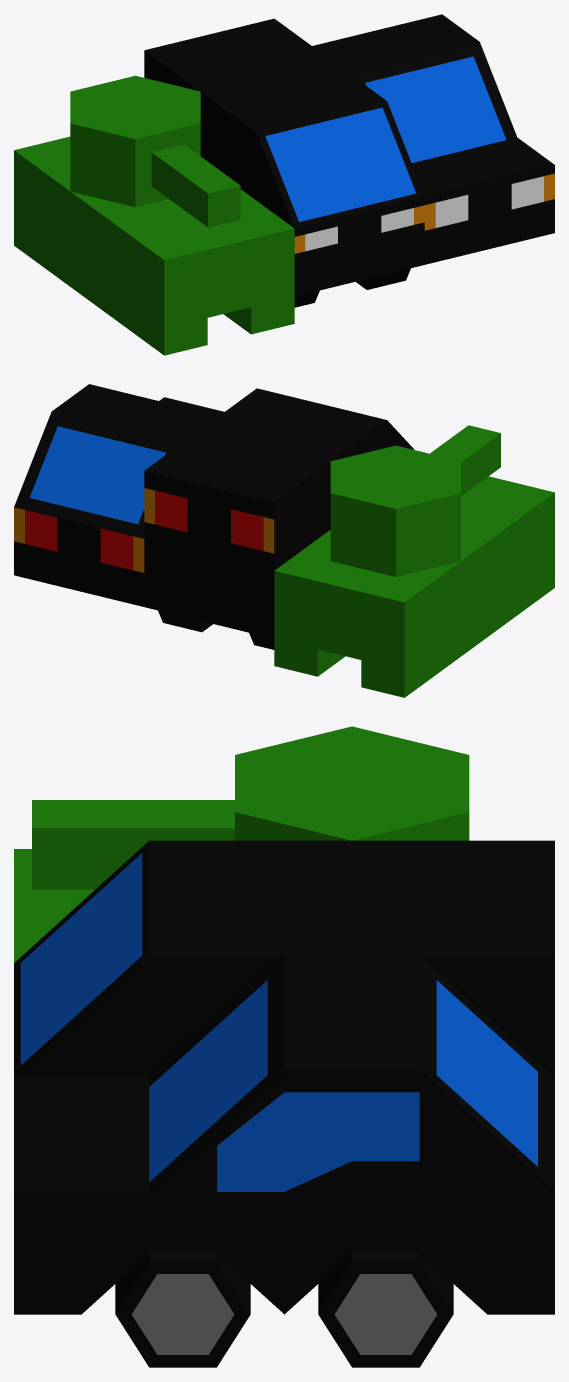
File: Pojazdy.fbx
The picture shows the model from 3 angles, top to bottom: view 1: azimuth 30°, elevation 25°; view 2: azimuth 150°, elevation 25°; view 3: azimuth 270°, elevation 25°; orthographic projection. The views are drawn at different scales.
Visible parts, largest first — view 1: Cube.002, Cube.001, Cube; view 2: Cube.002, Cube.001, Cube; view 3: Cube, Cube.001, Cube.002.
Boxes of the visible parts, x1,y1,x2,y2 form: Cube.002: (14,75,294,355); Cube.001: (144,18,424,307); Cube: (312,14,554,264); Cube.002: (274,425,554,697); Cube.001: (144,388,414,649); Cube: (14,384,223,606); Cube: (14,955,554,1367); Cube.001: (14,840,554,1077); Cube.002: (14,726,469,962).
Bounding box in the file's own units: 1200 × 487 × 800.
